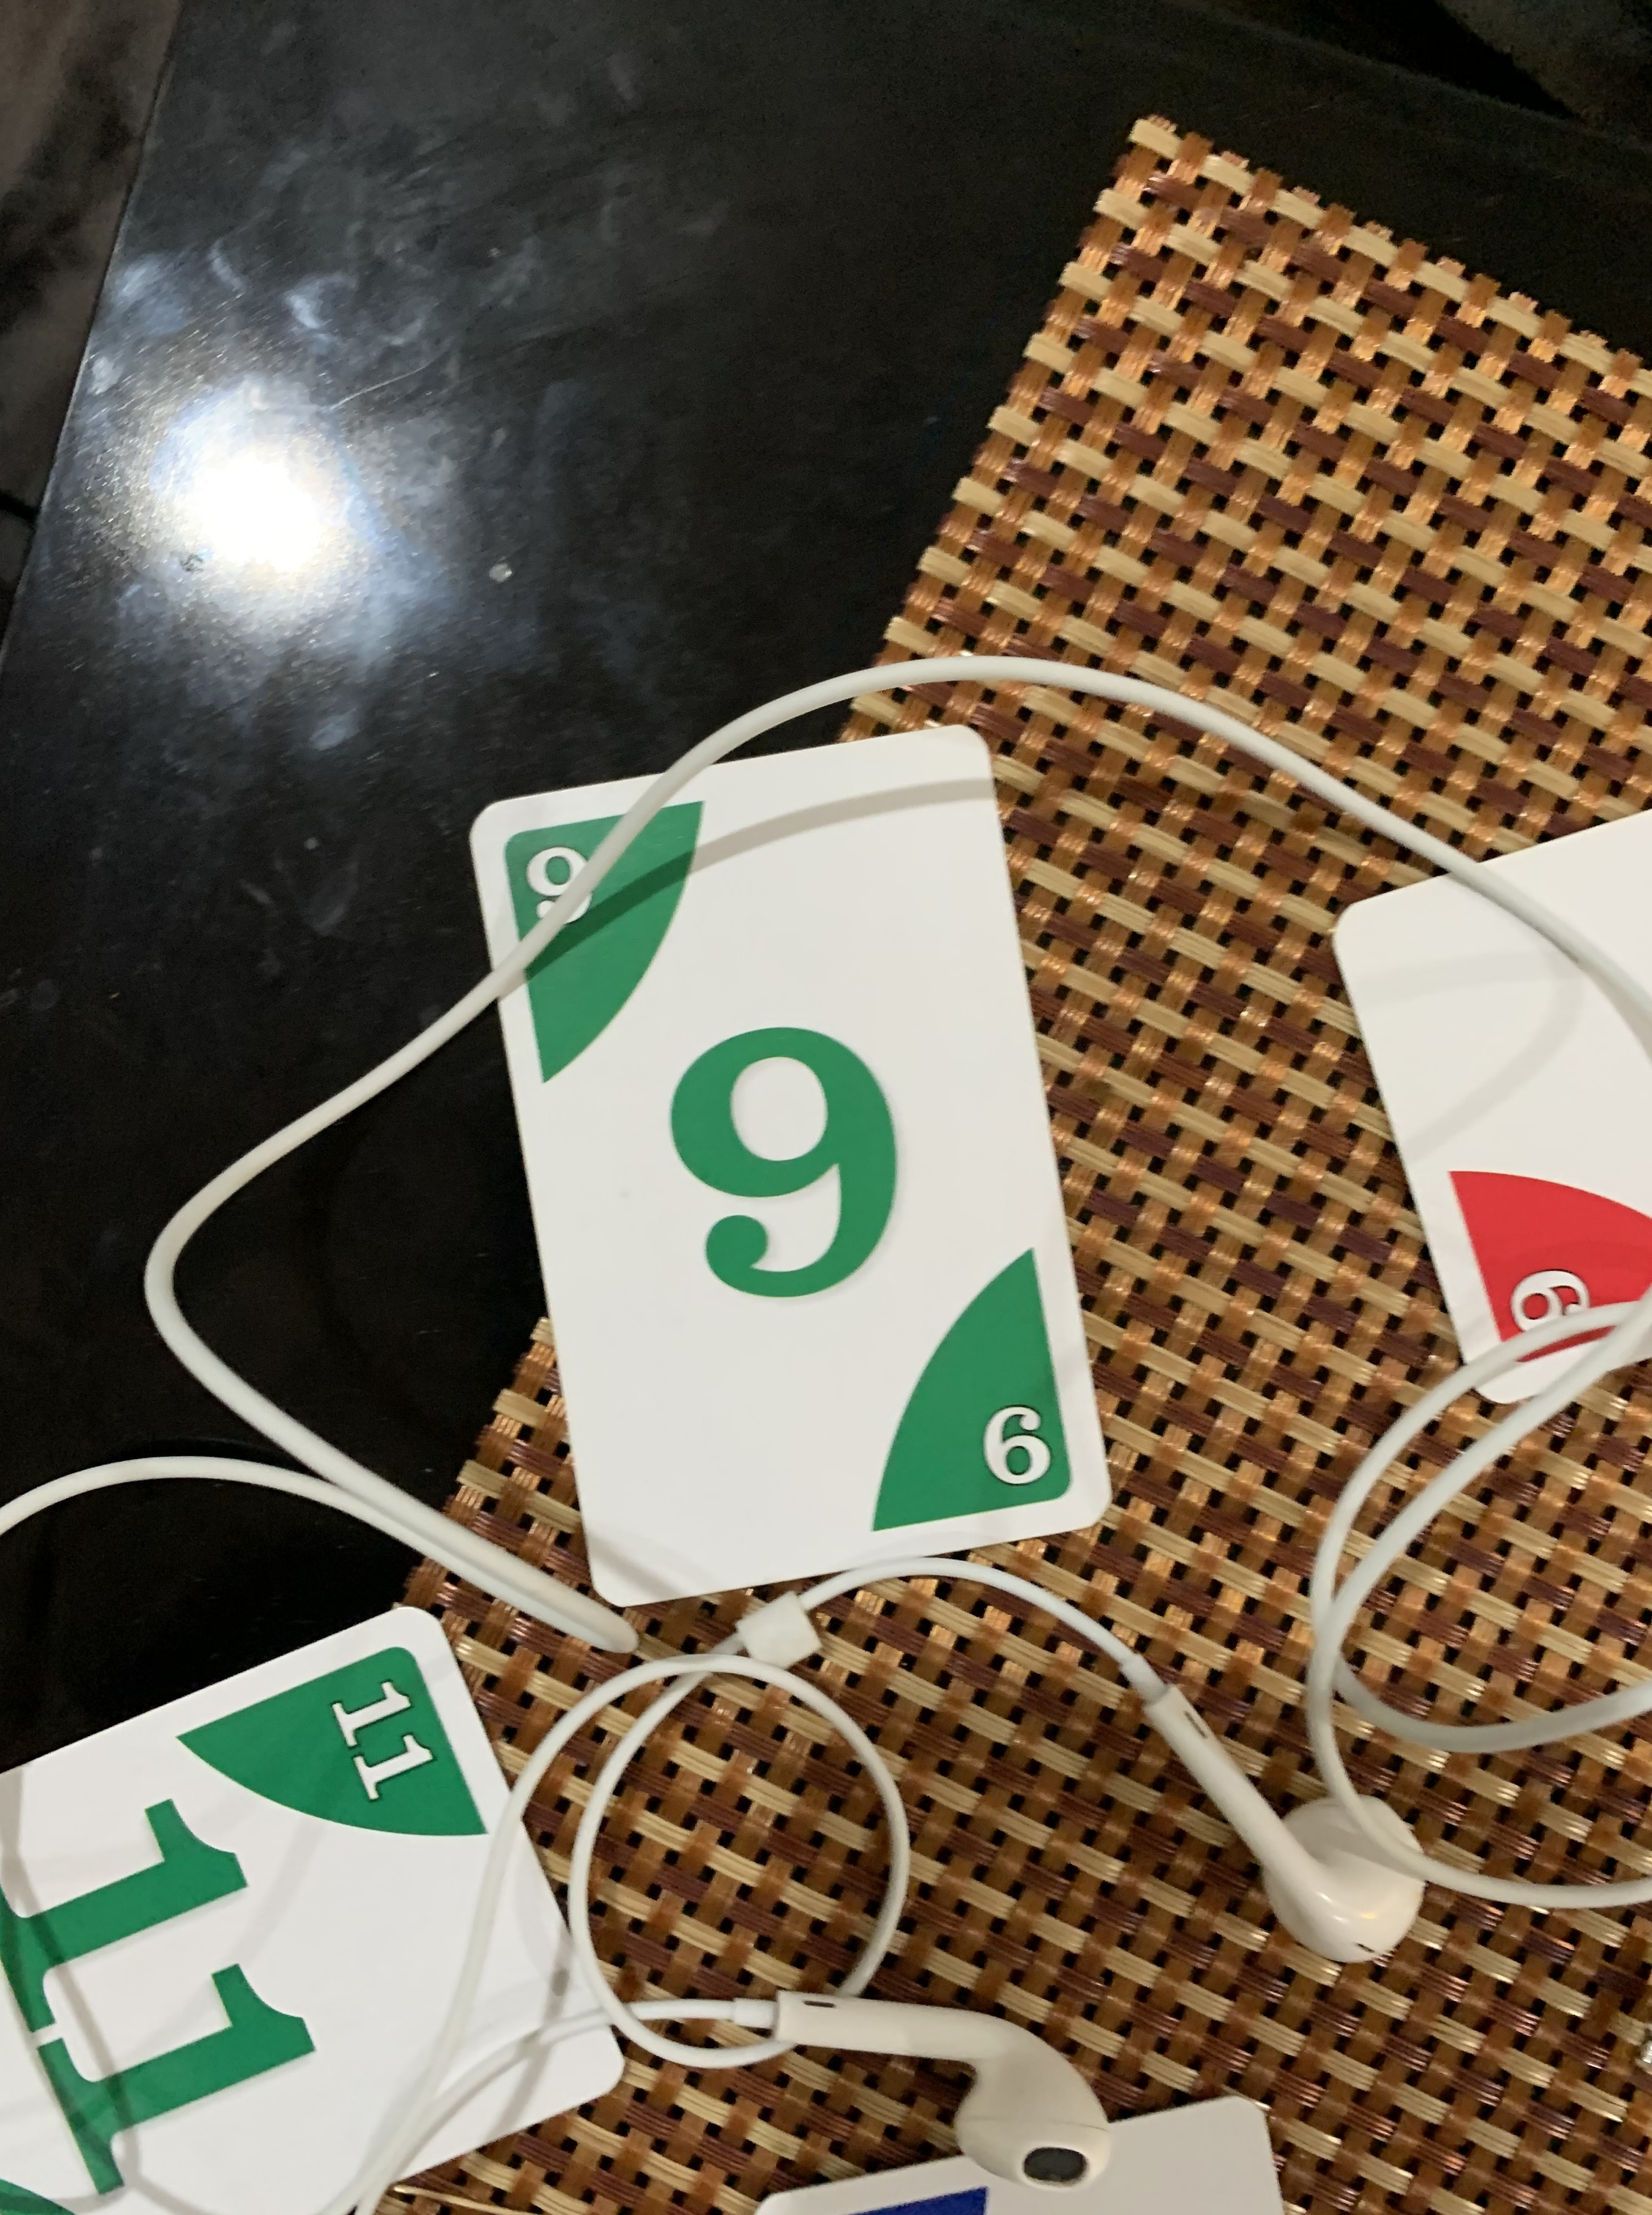nine: (441, 708, 1159, 1627)
